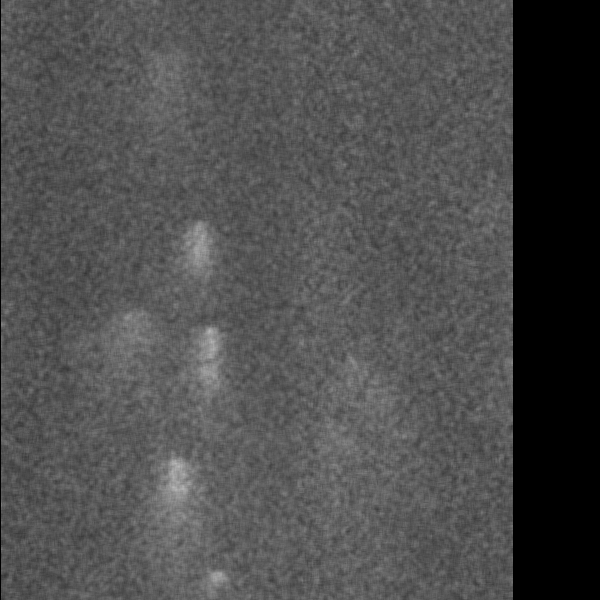spark: (148, 451, 200, 570), (182, 216, 219, 311), (199, 323, 221, 454), (114, 306, 146, 363), (198, 568, 237, 599)
